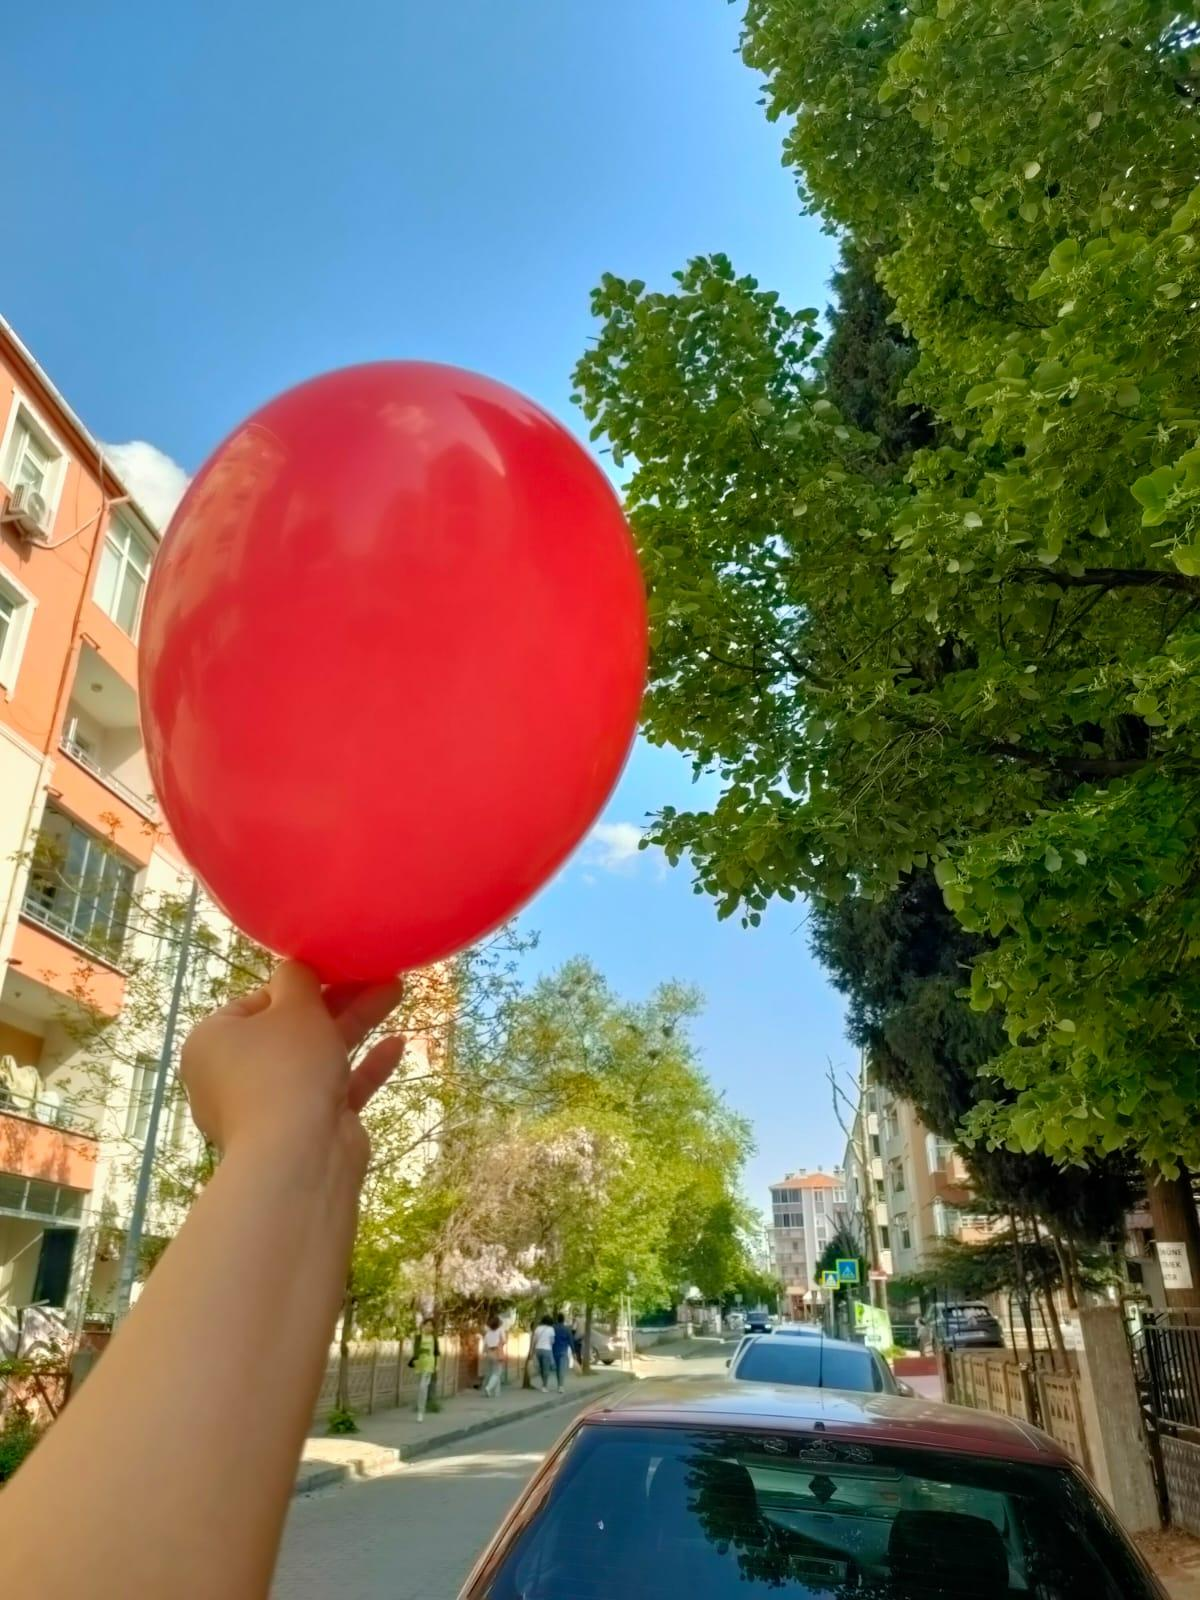red: (124, 350, 655, 1004)
